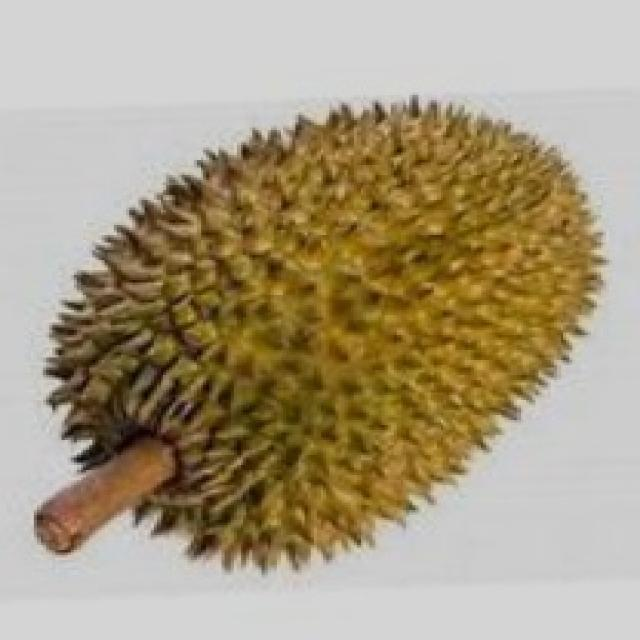fruit: (9, 268, 385, 630)
